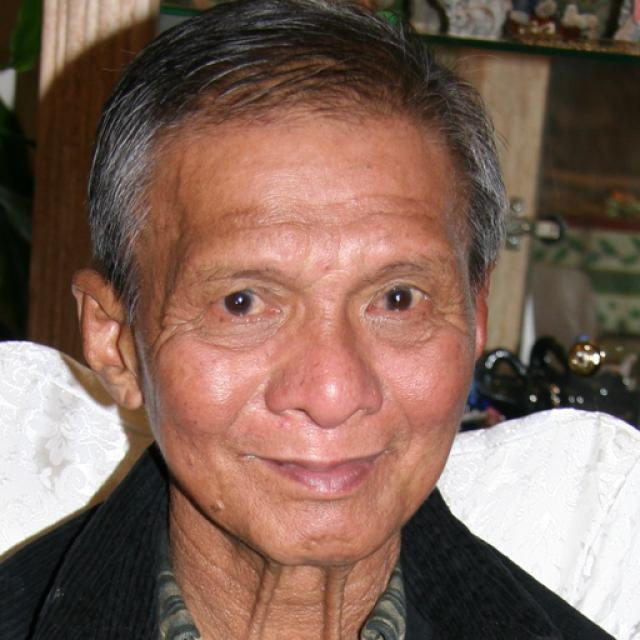Wrinkle: (216, 203, 438, 241)
